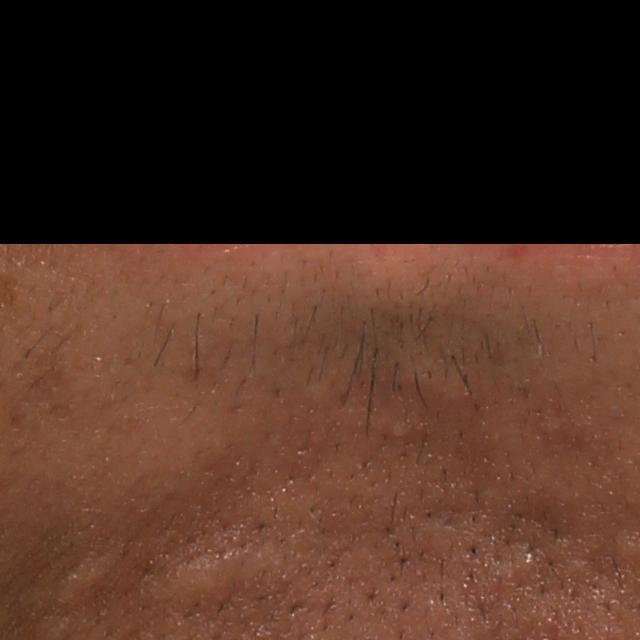hypertrophic_scar: (137, 535, 297, 611), (58, 543, 128, 605)
